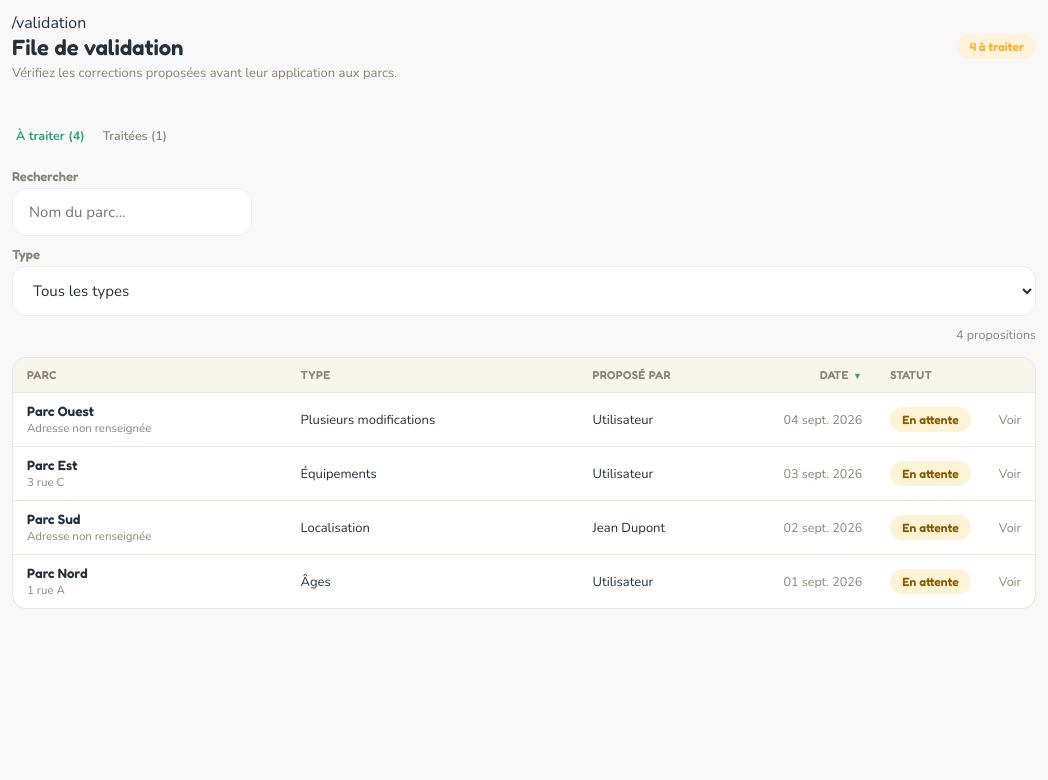
it: Validation — file de validation (Admin-3B-1) › le filtre de recherche restreint la liste au nom du parc
Check: the text "Parc Nord" is shown, box [27, 565, 88, 581]
Type "Nord" into the search field labelled "Rechercher". click: [132, 212]
box: [12, 188, 252, 236]
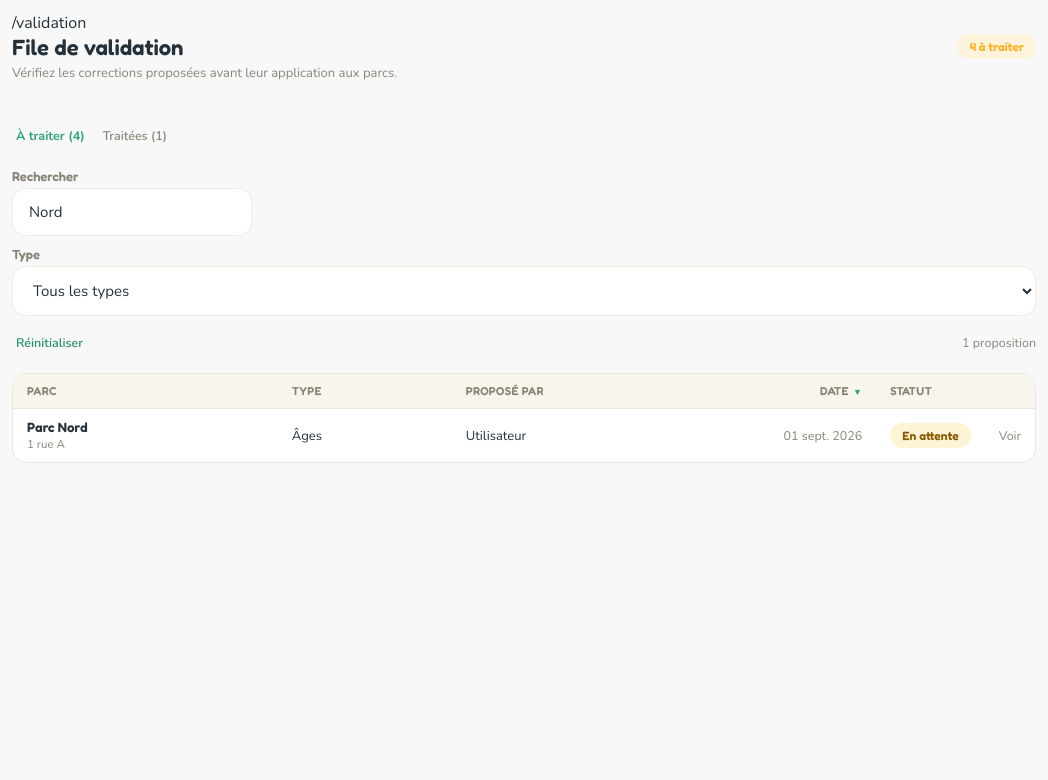
Check: the text "Parc Nord" is shown, box [27, 419, 88, 435]
Check: the button "Parc Sud" is gone
